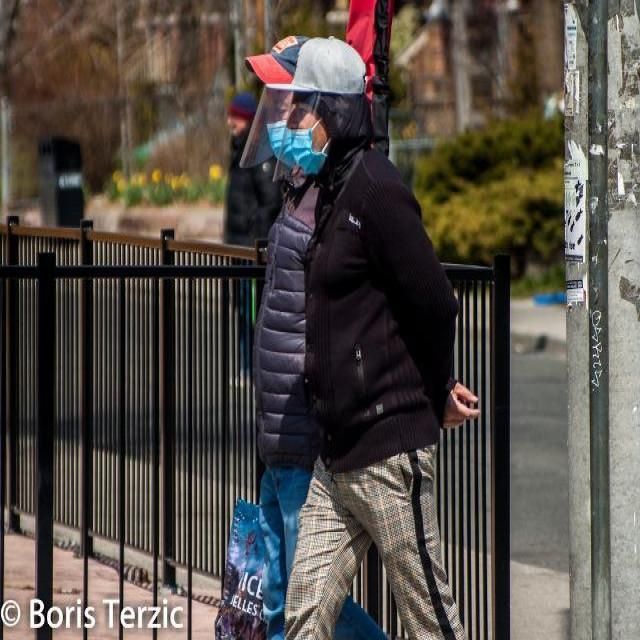bare_hand: (445, 365, 489, 437)
